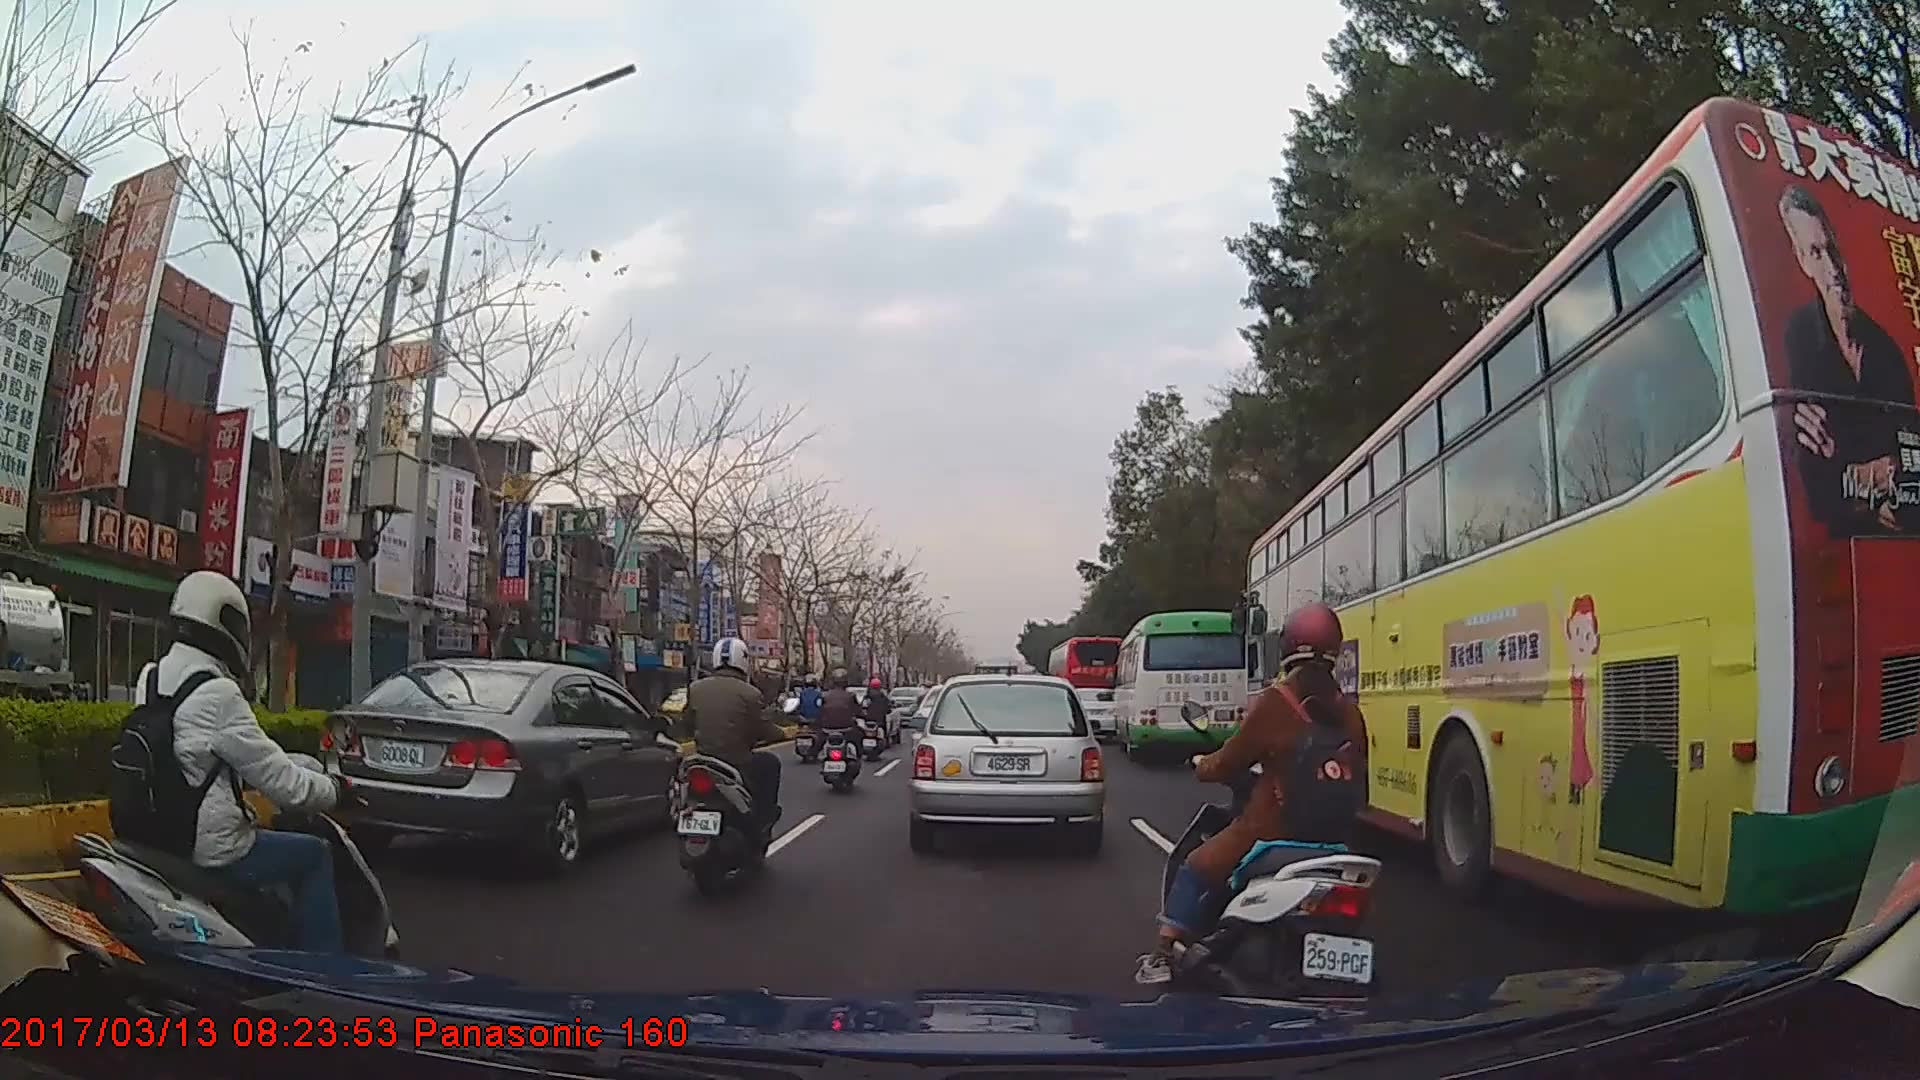rider: (69, 570, 393, 1000), (1137, 603, 1384, 1017), (674, 633, 800, 898), (817, 669, 863, 792), (794, 673, 831, 750), (858, 677, 892, 763)
vehicle: (1243, 93, 1917, 924), (315, 655, 692, 874), (912, 671, 1104, 851), (1111, 608, 1252, 761), (0, 558, 78, 759), (1046, 634, 1131, 734)
